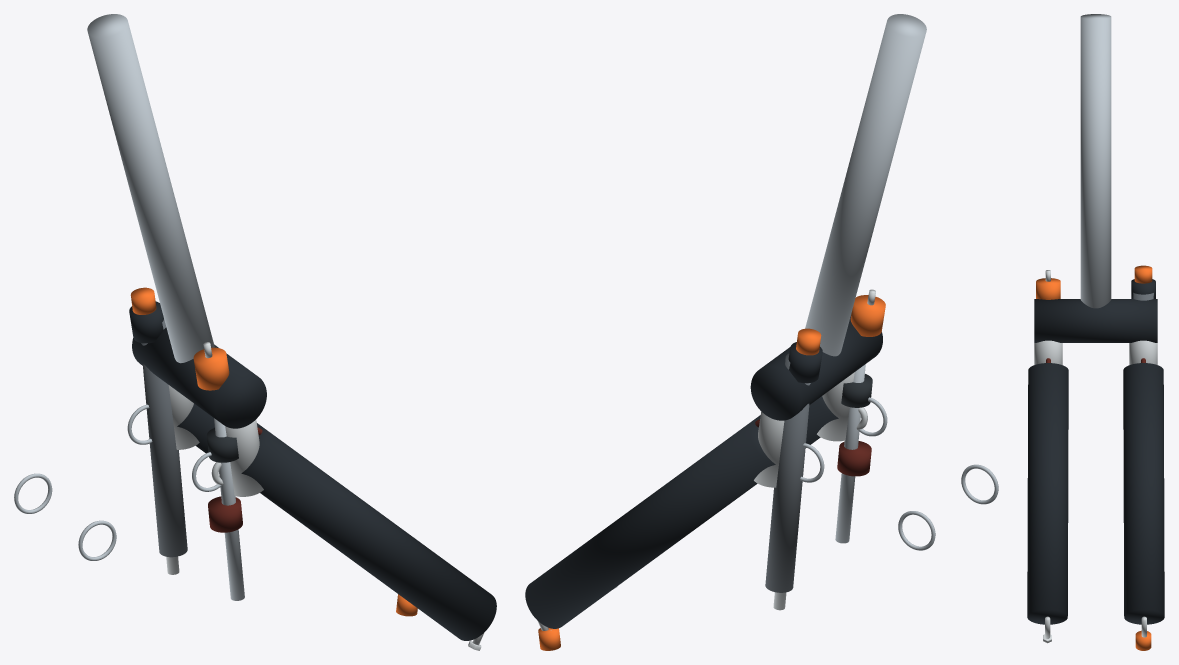
File: fork_LOD0.fbx
3 views of the same model, side by side, from view 1: azimuth 30°, elevation 25°; view 2: azimuth 150°, elevation 25°; view 3: azimuth 270°, elevation 25° (orthographic). The views are drawn at different scales.
Visible parts, largest first — view 1: MM_fork_lower_casting, MM_fork_steerer, MM_fork_crown, MM_fork_damper_cartridge, MM_fork_air_shaft, MM_fork_stanchion_1, MM_fork_air_top_cap, MM_fork_air_seal_head, MM_fork_stanchion_2, MM_fork_damper_top_cap, MM_fork_air_piston; view 2: MM_fork_lower_casting, MM_fork_steerer, MM_fork_crown, MM_fork_damper_cartridge, MM_fork_air_shaft, MM_fork_stanchion_2, MM_fork_stanchion_1, MM_fork_air_top_cap, MM_fork_air_seal_head, MM_fork_damper_top_cap, MM_fork_air_piston; view 3: MM_fork_lower_casting, MM_fork_steerer, MM_fork_crown, MM_fork_stanchion_1, MM_fork_stanchion_2, MM_fork_air_top_cap, MM_fork_damper_top_cap, MM_fork_compression_adjuster, MM_fork_rebound_knob.
Boxes of the visible parts, box(x1,y1,x2,y2) form: MM_fork_lower_casting: box(177, 403, 496, 640); MM_fork_steerer: box(87, 14, 214, 363); MM_fork_crown: box(132, 327, 266, 428); MM_fork_damper_cartridge: box(141, 319, 187, 557); MM_fork_air_shaft: box(214, 418, 244, 600); MM_fork_stanchion_1: box(225, 419, 263, 496); MM_fork_air_top_cap: box(193, 347, 229, 390); MM_fork_air_seal_head: box(208, 496, 242, 532); MM_fork_stanchion_2: box(168, 385, 199, 449); MM_fork_damper_top_cap: box(129, 301, 163, 343); MM_fork_air_piston: box(207, 428, 238, 462); MM_fork_lower_casting: box(525, 396, 838, 628); MM_fork_steerer: box(805, 14, 926, 356); MM_fork_crown: box(750, 313, 882, 420); MM_fork_damper_cartridge: box(765, 353, 810, 592); MM_fork_air_shaft: box(835, 364, 865, 543); MM_fork_stanchion_2: box(754, 412, 784, 487); MM_fork_stanchion_1: box(817, 372, 854, 441); MM_fork_air_top_cap: box(850, 295, 885, 336); MM_fork_air_seal_head: box(837, 441, 871, 476); MM_fork_damper_top_cap: box(788, 342, 822, 383); MM_fork_air_piston: box(841, 374, 872, 407); MM_fork_lower_casting: box(1027, 363, 1164, 624); MM_fork_steerer: box(1080, 14, 1111, 308); MM_fork_crown: box(1034, 299, 1157, 342); MM_fork_stanchion_1: box(1034, 340, 1062, 364); MM_fork_stanchion_2: box(1129, 340, 1157, 364); MM_fork_air_top_cap: box(1036, 278, 1060, 299); MM_fork_damper_top_cap: box(1131, 279, 1155, 298); MM_fork_compression_adjuster: box(1134, 265, 1152, 283); MM_fork_rebound_knob: box(1135, 630, 1151, 650).
Bounding box in the file's own units: 0.402 × 0.6455 × 0.156.
